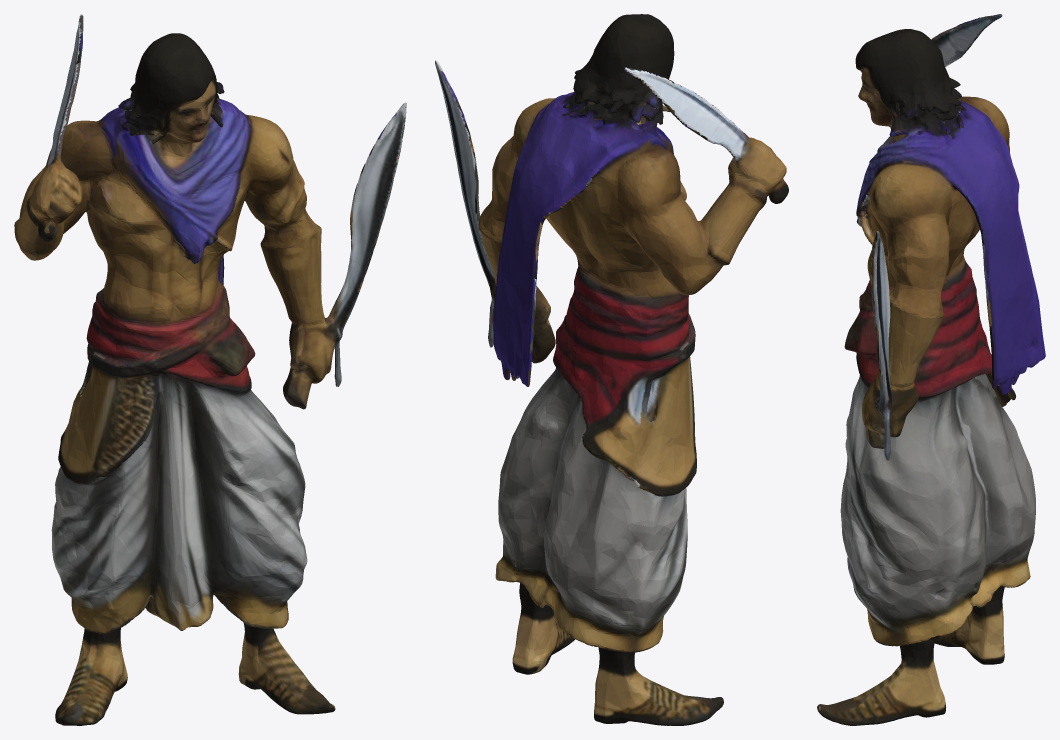
The model's file is villan.glb.
The picture shows the model from 3 angles, left to right: view 1: azimuth 30°, elevation 25°; view 2: azimuth 150°, elevation 25°; view 3: azimuth 270°, elevation 25°; orthographic projection. The views are drawn at different scales.
Visible parts, largest first — view 1: world; view 2: world; view 3: world.
Boxes of the visible parts, x1,y1,x2,y2 form: world: [14, 14, 406, 725]; world: [435, 14, 788, 725]; world: [817, 14, 1045, 725].
Size of the model in its own units: 1.11 by 1.99 by 0.6444.
Materials: 1 (1 with a texture image).
